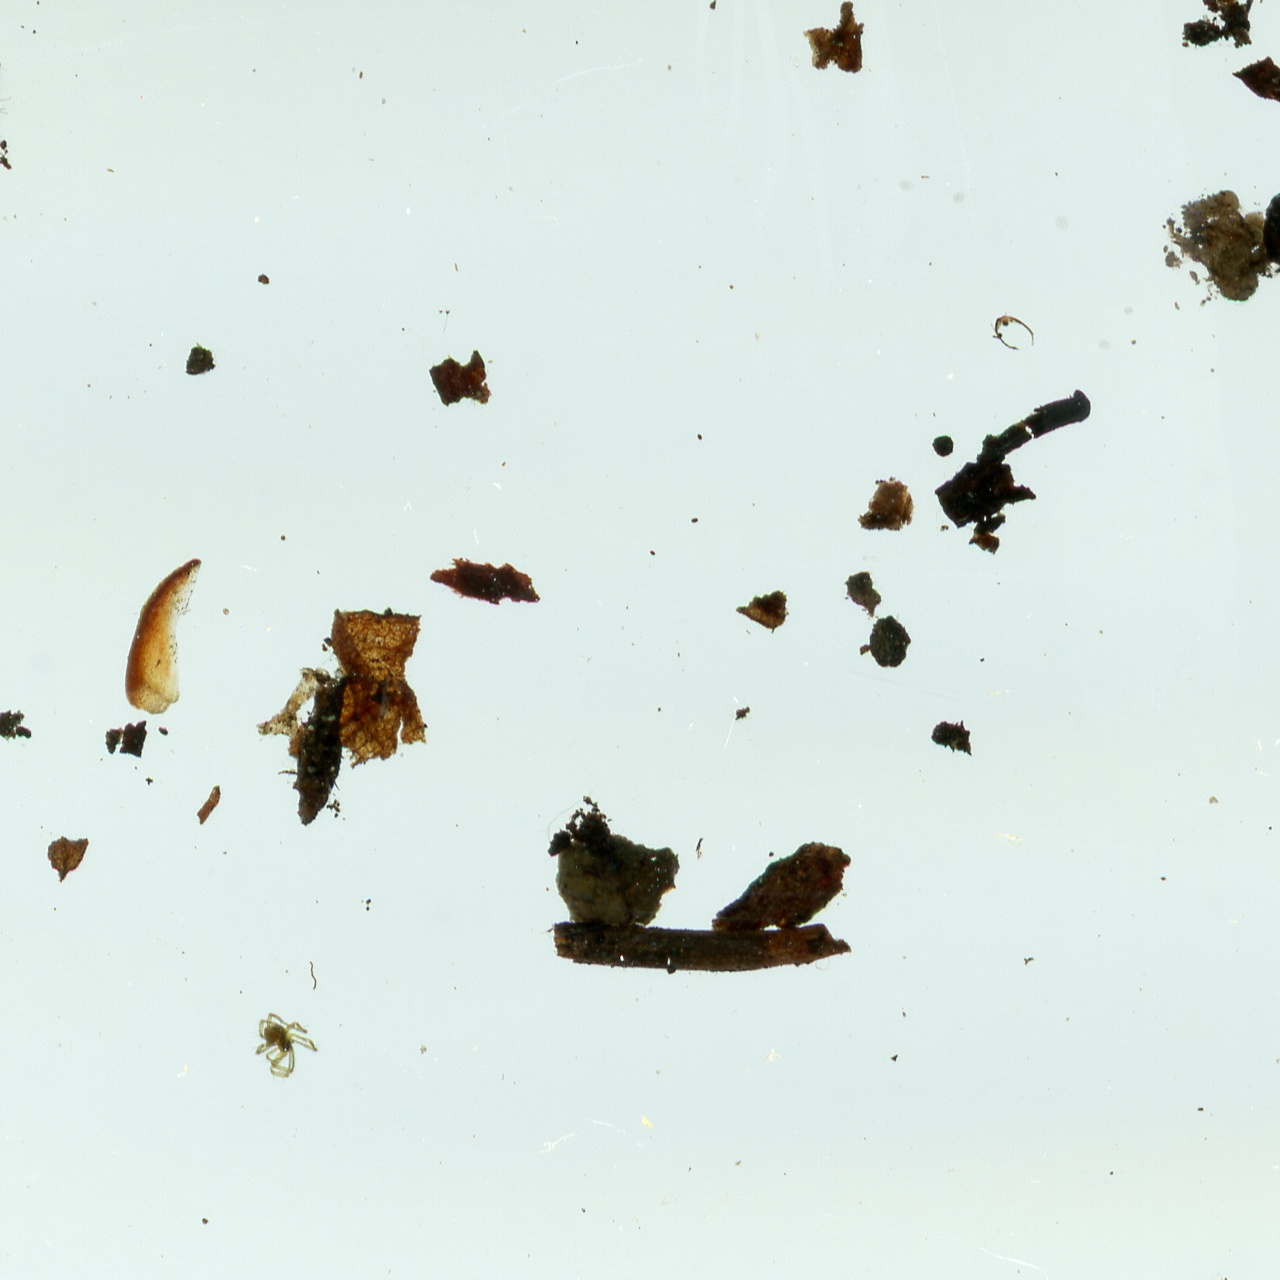arthropod: (250, 1006, 324, 1086)
